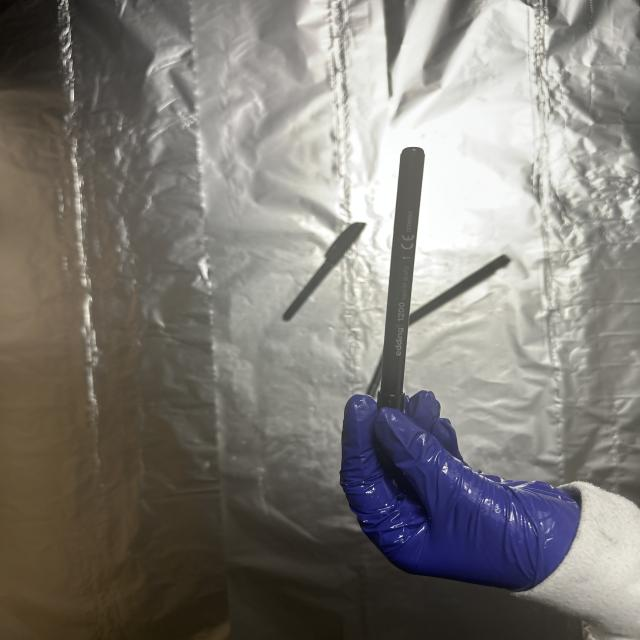gloves_contaminated: (340, 392, 580, 591)
